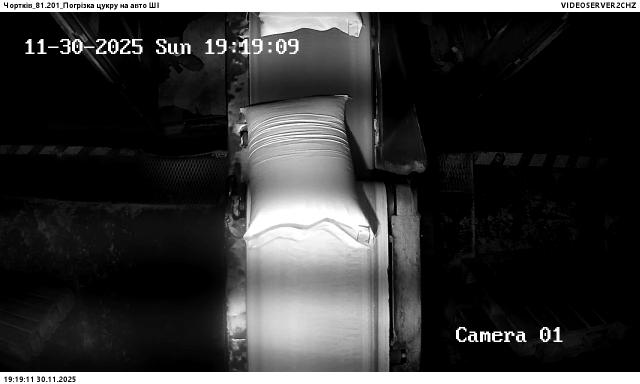bag: (241, 95, 378, 250), (260, 12, 369, 36)
